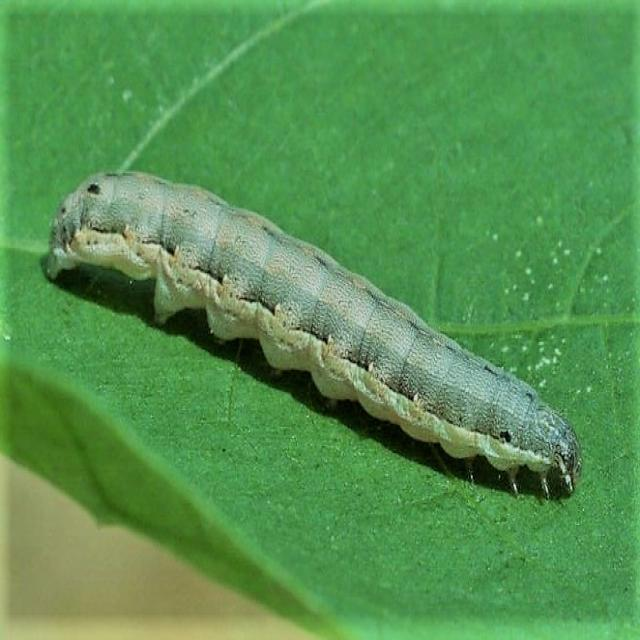Army worm: (40, 165, 584, 506)
Healthy: (2, 3, 636, 636)
